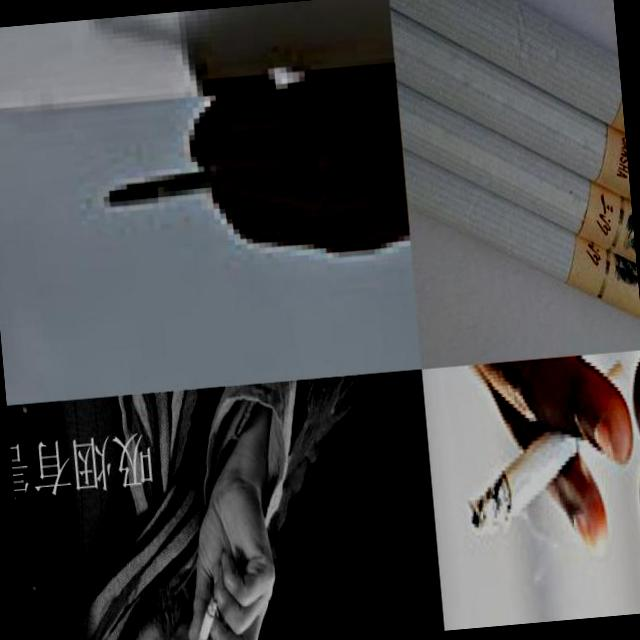cigarette: (392, 8, 640, 349), (389, 0, 638, 302), (397, 70, 640, 369), (388, 0, 633, 252), (456, 357, 639, 536), (108, 176, 219, 212), (187, 595, 222, 640)
